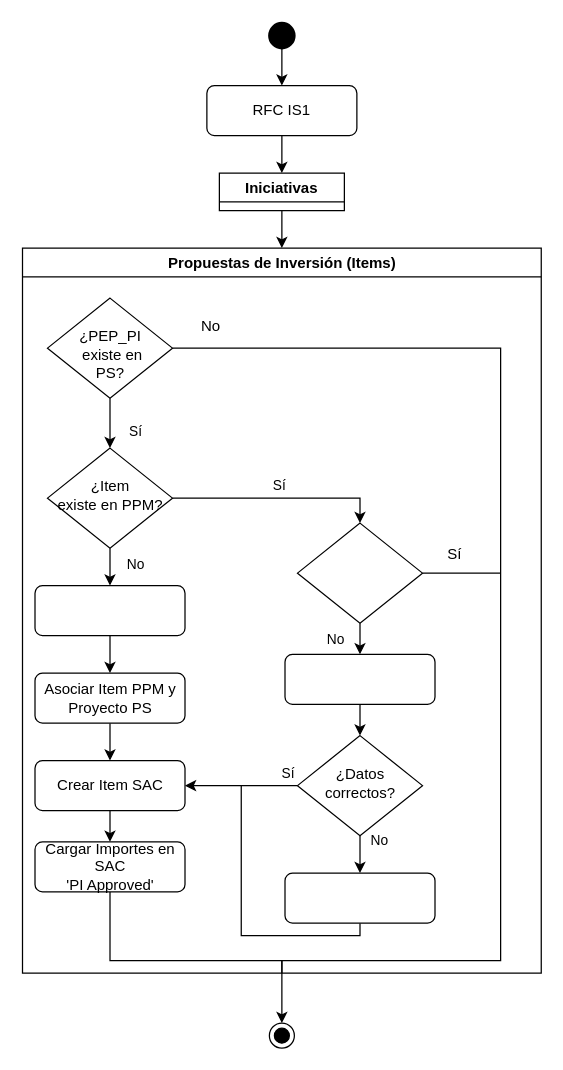
The diagram is 563 pixels wide and 1070 high, and some of its shapes have lost their labels. The shapes that lost their labels are listed below. From the top down, each one's centre as x and y in pixels, then its label:
At (359,572): "¿Status Completado?".
At (109,610): "Crear Item PPM".
At (359,678): "Validar datos Item".
At (359,897): "Actualizar datos PPM".
